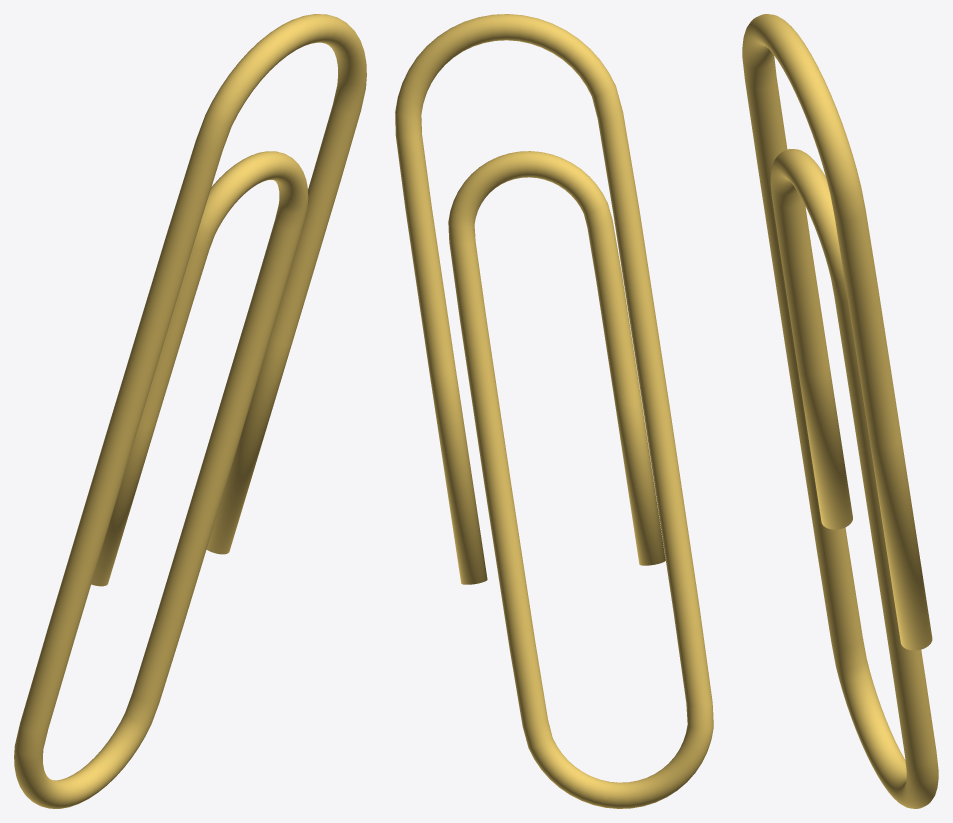
3 renders of one model, left to right at view 1: azimuth 30°, elevation 25°; view 2: azimuth 150°, elevation 25°; view 3: azimuth 270°, elevation 25°, orthographic. The views are drawn at different scales.
Visible parts, largest first — view 1: Cylinder.011; view 2: Cylinder.011; view 3: Cylinder.011.
Part boxes in pixels (x1,y1,x2,y2): Cylinder.011: [14, 14, 366, 808]; Cylinder.011: [395, 14, 713, 808]; Cylinder.011: [742, 14, 938, 808].
Size of the model in its own units: 0.557 by 1.2 by 0.249.
